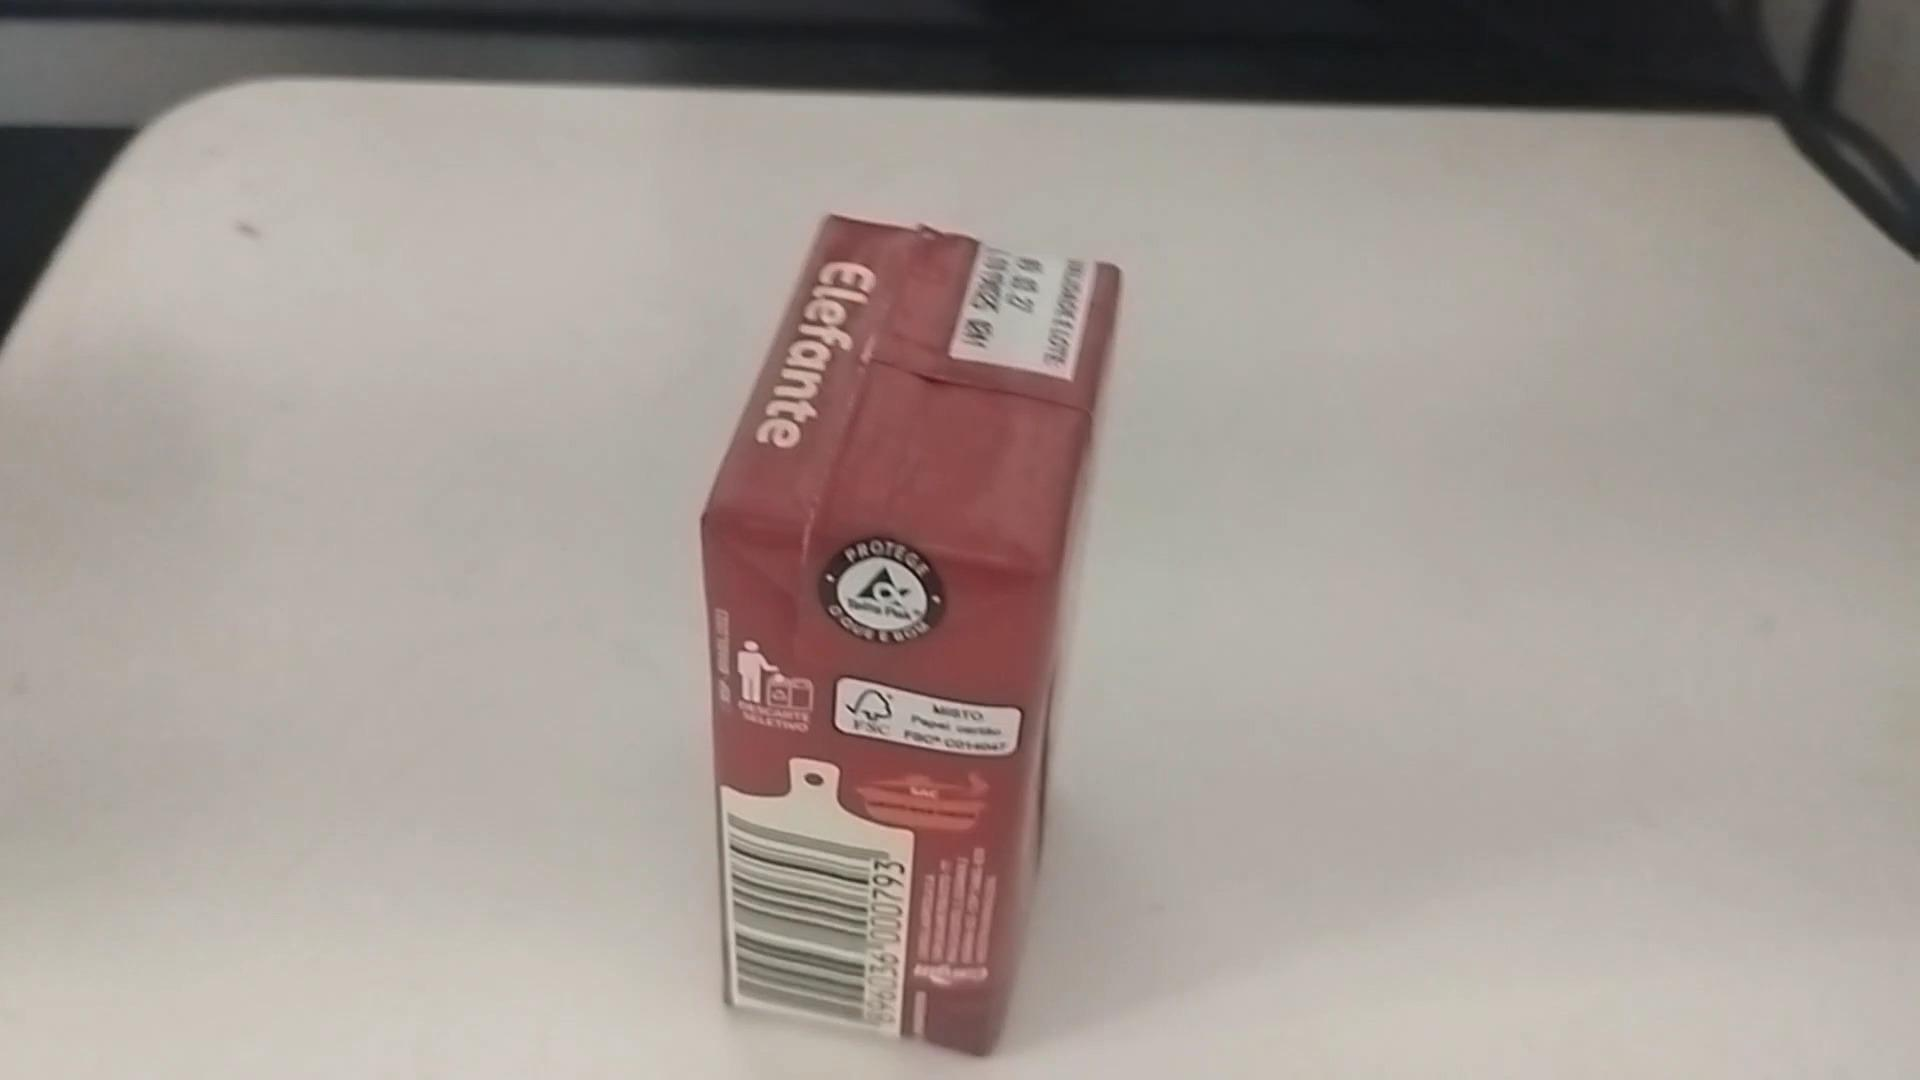tomate: (692, 218, 1130, 1063)
